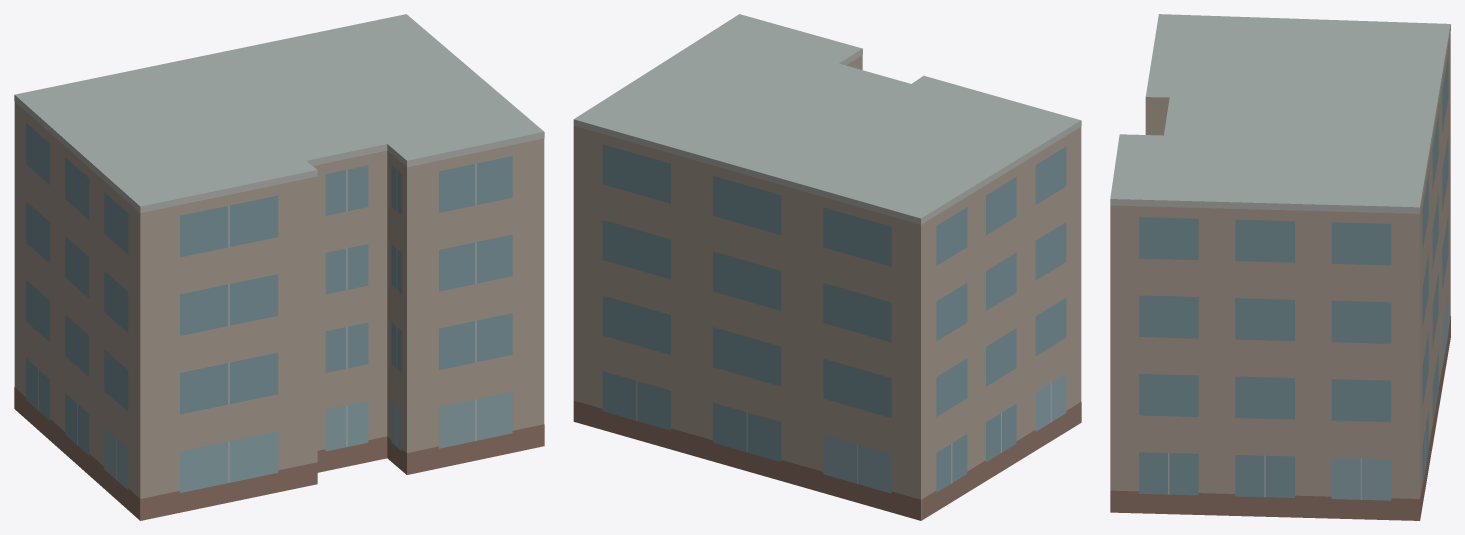
The model's file is survey-upis-32928343.glb.
3 views of the same model, side by side, from view 1: azimuth 30°, elevation 25°; view 2: azimuth 150°, elevation 25°; view 3: azimuth 270°, elevation 25° (orthographic). The views are drawn at different scales.
Visible parts, largest first — view 1: survey-upis-32928343.tmp; view 2: survey-upis-32928343.tmp; view 3: survey-upis-32928343.tmp.
Boxes of the visible parts, bbox=[...] form: survey-upis-32928343.tmp: bbox=[14, 14, 544, 520]; survey-upis-32928343.tmp: bbox=[573, 14, 1081, 520]; survey-upis-32928343.tmp: bbox=[1110, 14, 1450, 520].
Size of the model in its own units: 15.48 by 11.7 by 11.53.
